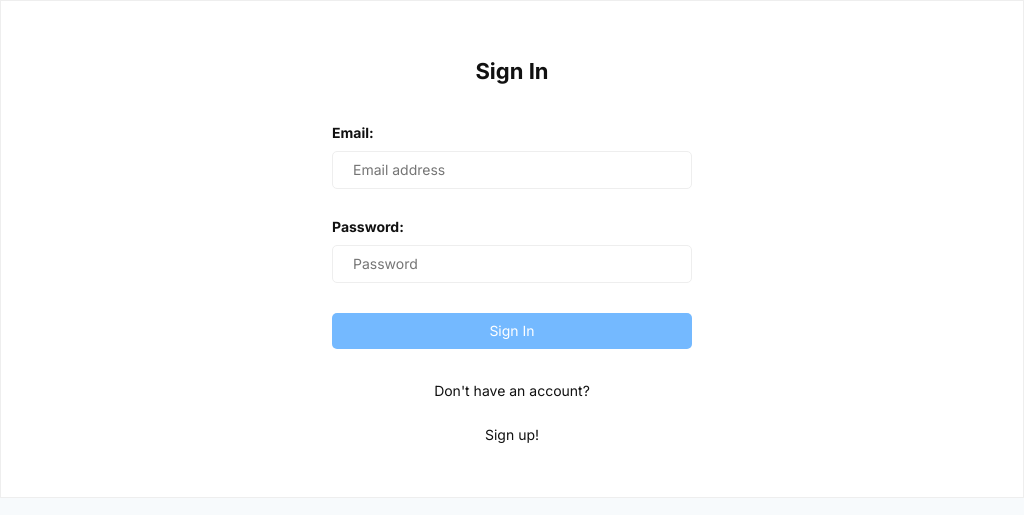
AuthForm - Login variant › Shows email error warning if submitted in invalid state
Type "testing123" into the password field labelled "Password:" at (512, 264), box x1=332 y1=245 x2=692 y2=283
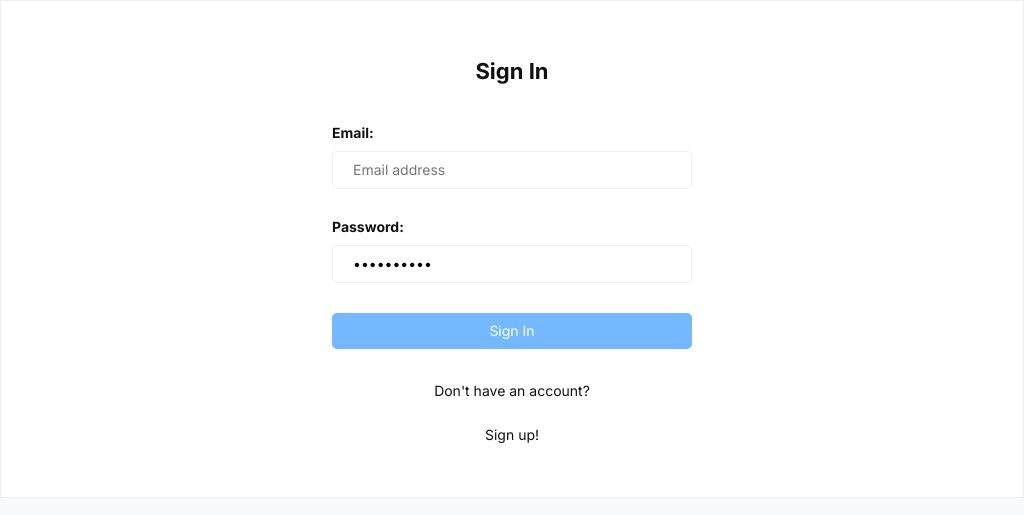
Click the button "Sign In" at (512, 331), box x1=332 y1=313 x2=692 y2=349
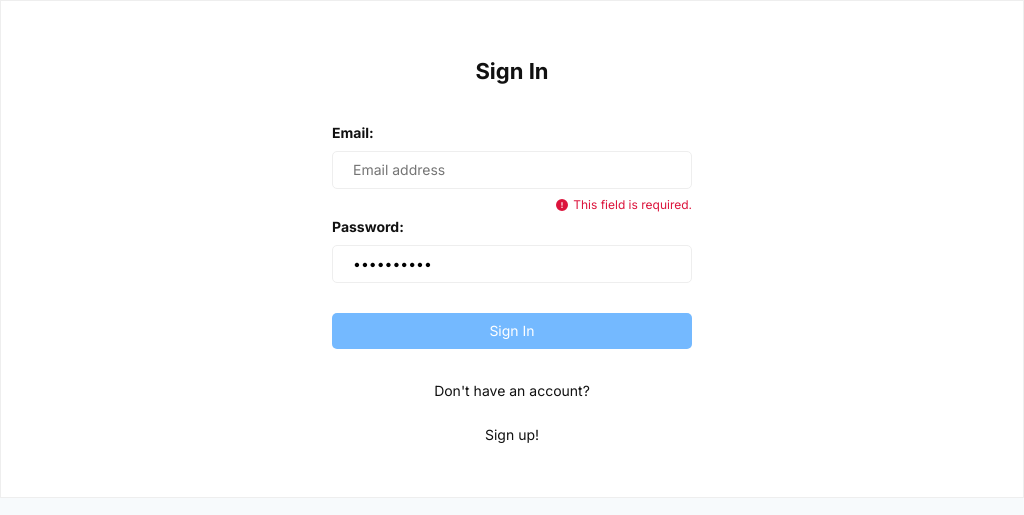
Check: the text "This field is required." is shown, box x1=556 y1=198 x2=692 y2=212
